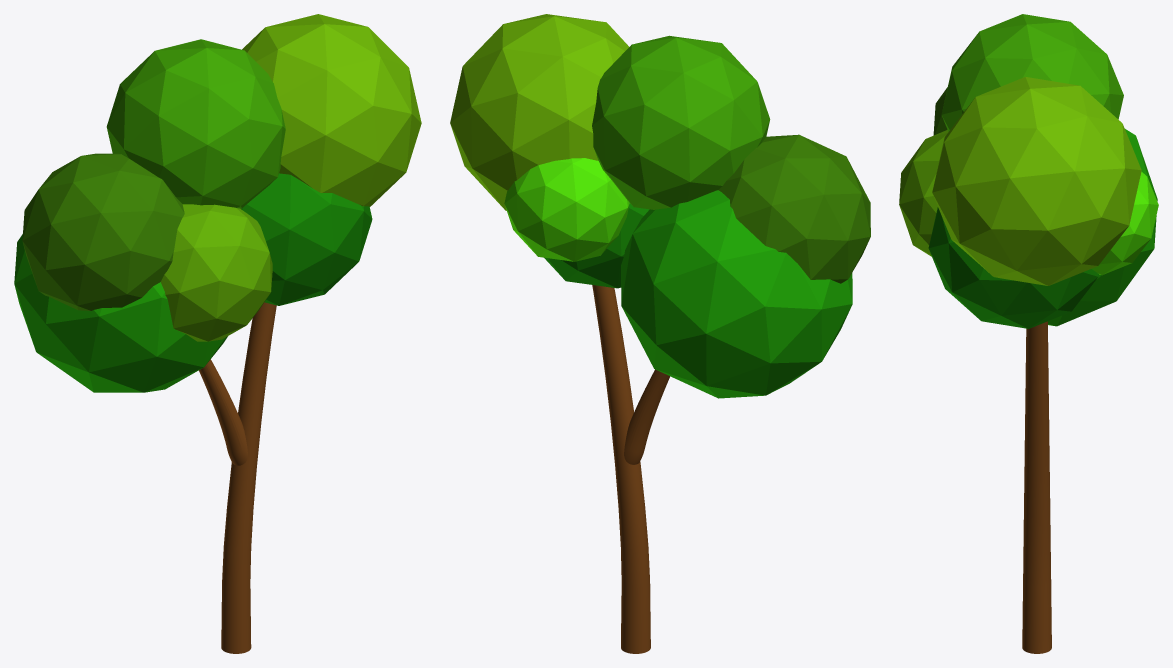
Rendered from tree.glb.
3 renders of one model, left to right at view 1: azimuth 30°, elevation 25°; view 2: azimuth 150°, elevation 25°; view 3: azimuth 270°, elevation 25°, orthographic.
Parts seen in each view (by area): view 1: log; view 2: log; view 3: log.
Boxes of the visible parts, x1,y1,x2,y2 form: log: (14,14,421,653); log: (450,14,870,653); log: (899,14,1158,653).
Size of the model in its own units: 6.56 by 10 by 3.88.
